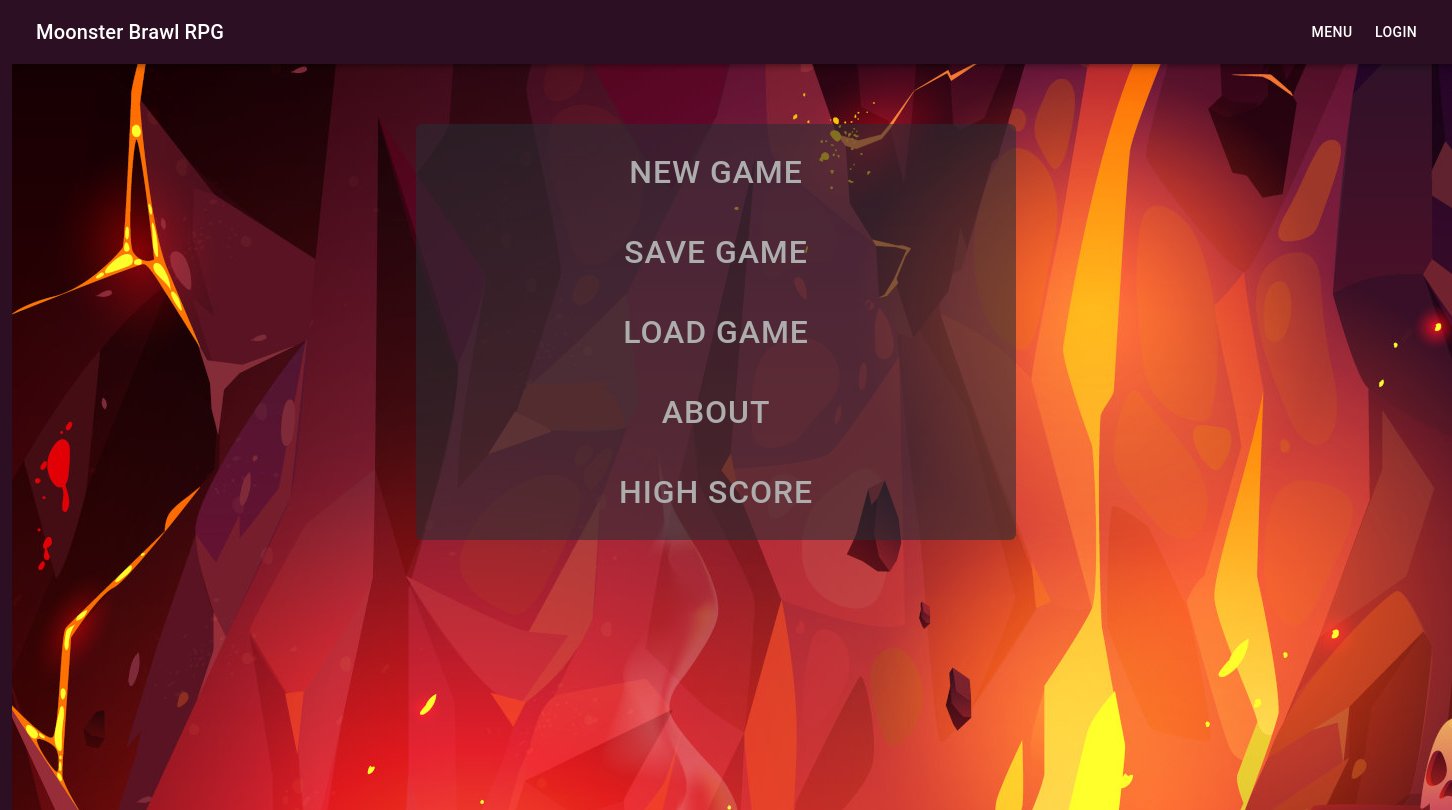
Test: App › returns to the main menu from the menu button
Step 1. Click the button "New Game" → click(716, 172), box x1=621 y1=138 x2=811 y2=206
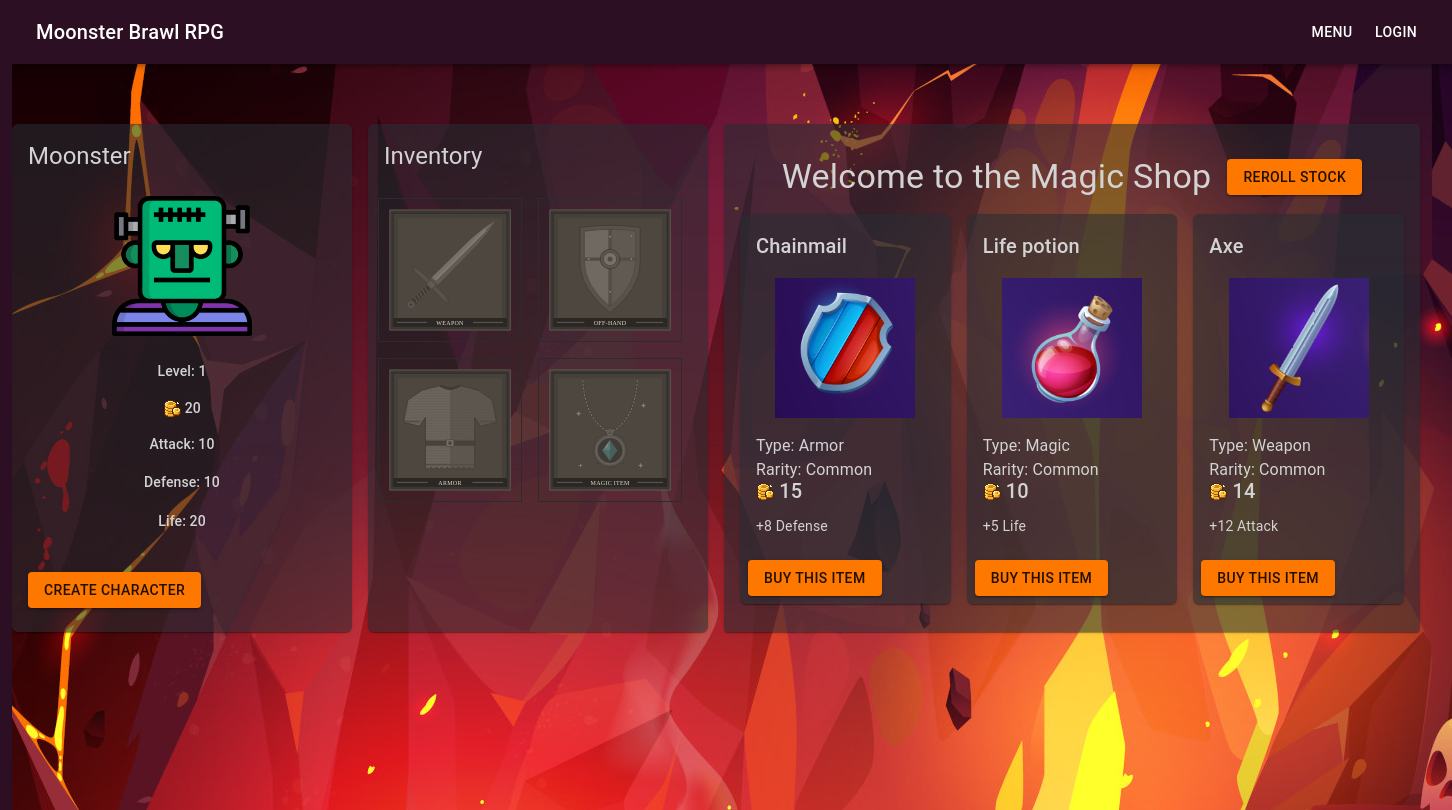
Expected: the heading "Welcome to the Magic Shop" is shown, x1=782 y1=156 x2=1212 y2=198
Step 2. Click the button "MENU" → click(1332, 32), box x1=1300 y1=14 x2=1364 y2=50
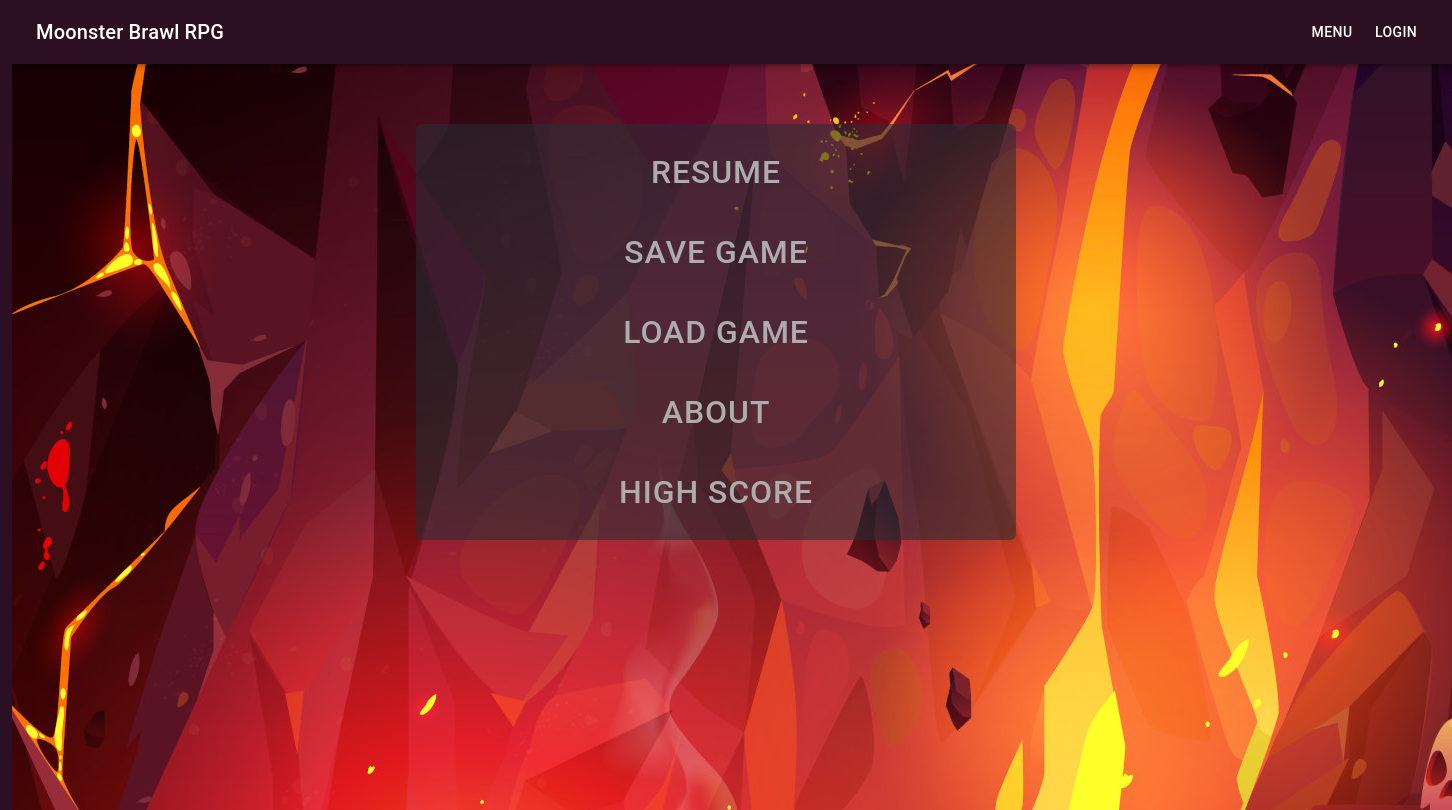
Expected: the element with test id "main-menu" is shown, x1=416 y1=124 x2=1016 y2=540
Step 3. Click the button "Resume" → click(716, 172), box x1=643 y1=138 x2=789 y2=206
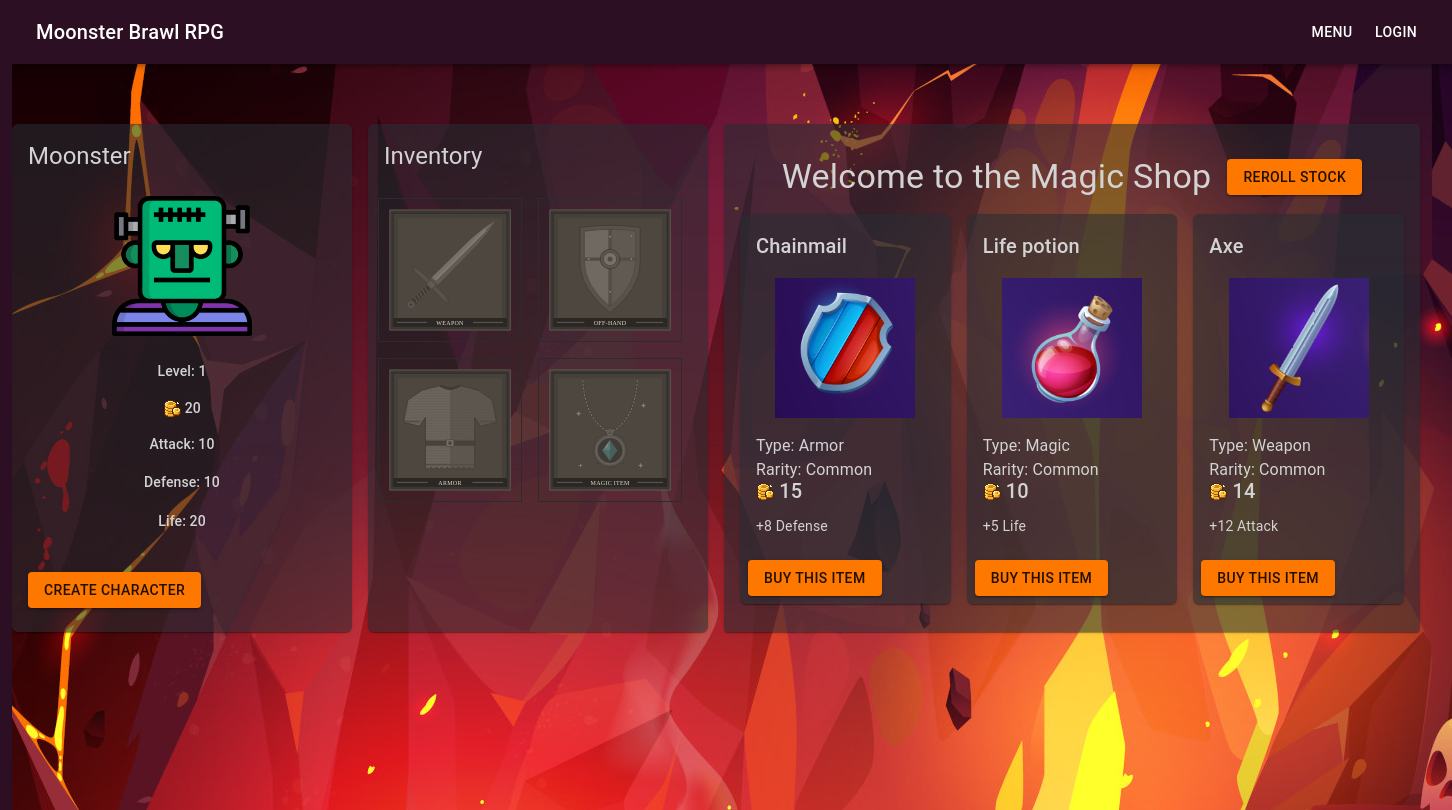
Expected: the heading "Welcome to the Magic Shop" is shown, x1=782 y1=156 x2=1212 y2=198
